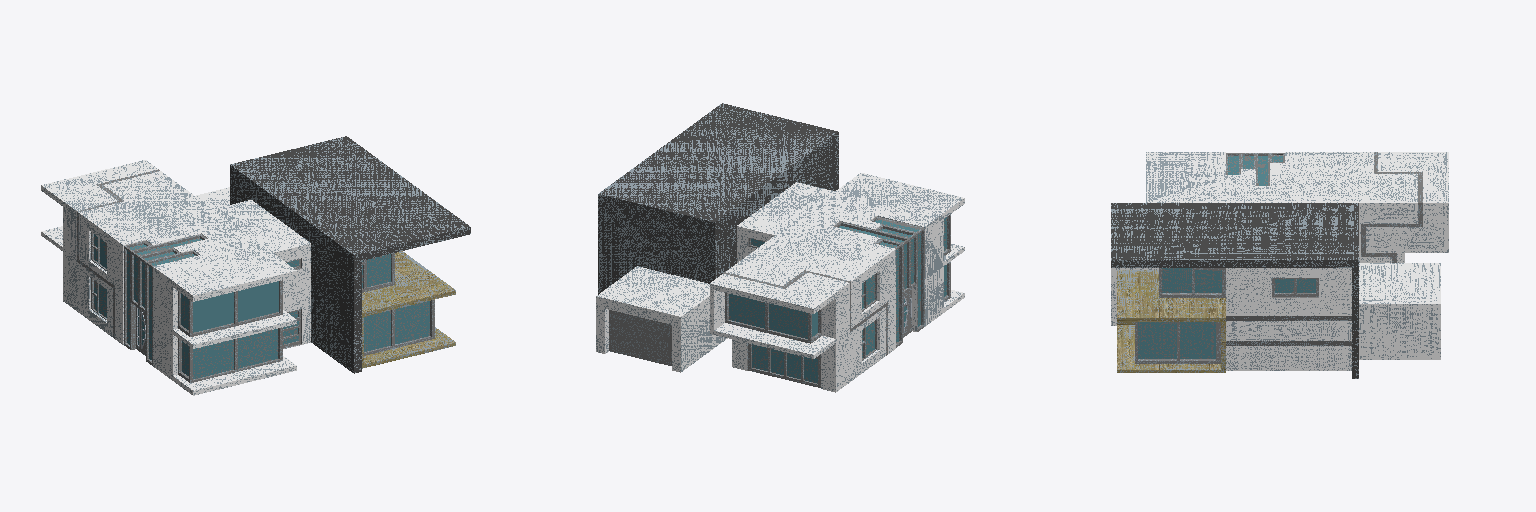
3 renders of one model, left to right at view 1: azimuth 30°, elevation 25°; view 2: azimuth 150°, elevation 25°; view 3: azimuth 270°, elevation 25°, orthographic.
Visible parts, largest first — view 1: Mesh1 modern_house_3_1 Model; view 2: Mesh1 modern_house_3_1 Model; view 3: Mesh1 modern_house_3_1 Model.
Part boxes in pixels (x1,y1,x2,y2): Mesh1 modern_house_3_1 Model: (41, 136, 470, 395); Mesh1 modern_house_3_1 Model: (596, 103, 964, 392); Mesh1 modern_house_3_1 Model: (1111, 152, 1448, 378).
Size of the model in its own units: 21179 by 9196 by 23768.
Materials: 10 (1 with a texture image).